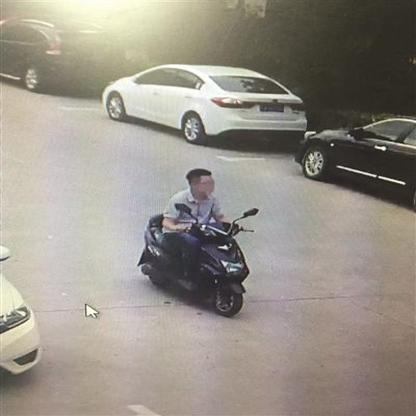target: (137, 166, 263, 319)
